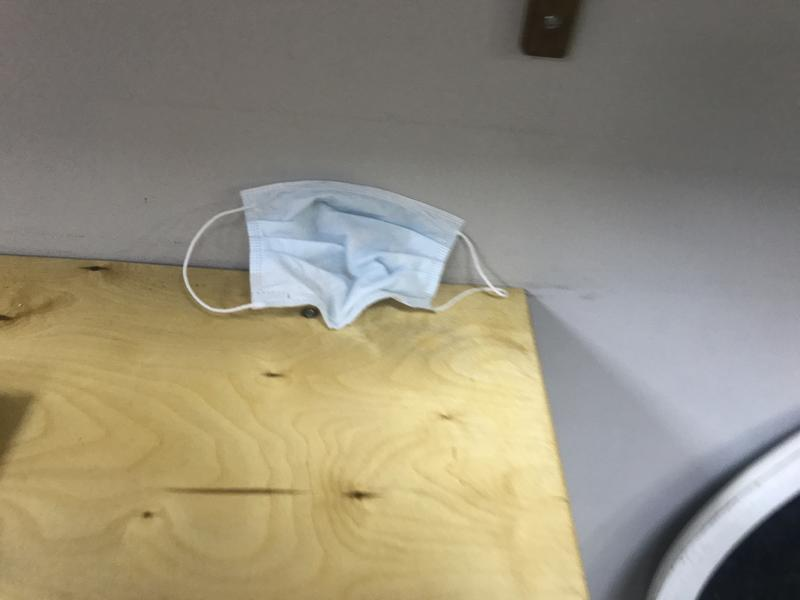medical_mask: (182, 179, 509, 330)
